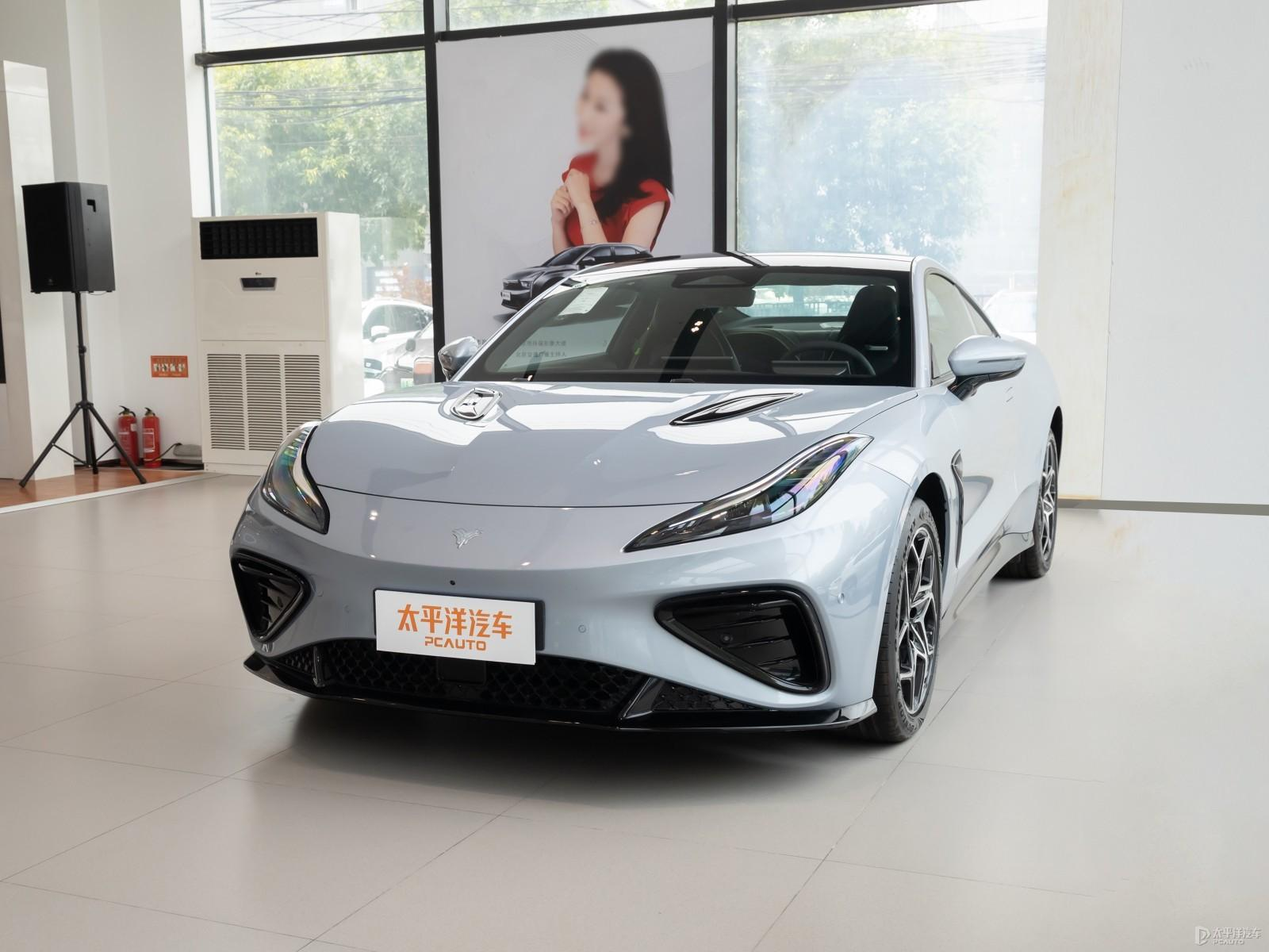NETA: (450, 528, 485, 550)
